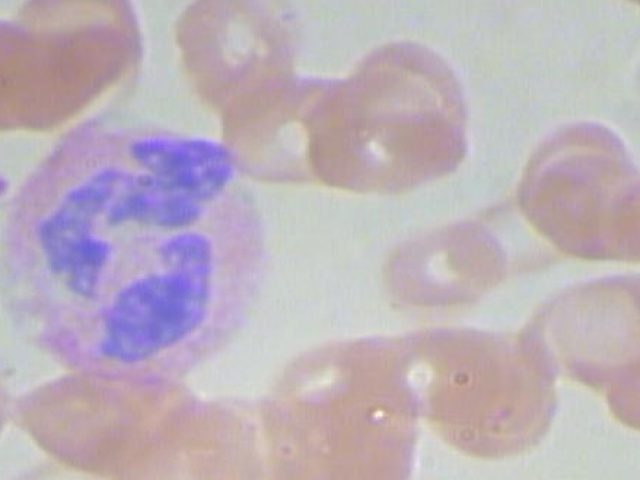Platelets: (0, 158, 19, 214)
RBC: (302, 59, 474, 194), (338, 26, 476, 159), (429, 331, 568, 463), (0, 0, 151, 115), (216, 65, 355, 183), (513, 144, 640, 269), (160, 0, 298, 109), (370, 218, 502, 318), (446, 176, 578, 276), (534, 261, 640, 385), (509, 105, 640, 205), (130, 389, 269, 480), (0, 433, 149, 480), (576, 171, 640, 269), (0, 338, 12, 480)
WBC: (0, 115, 285, 385)
